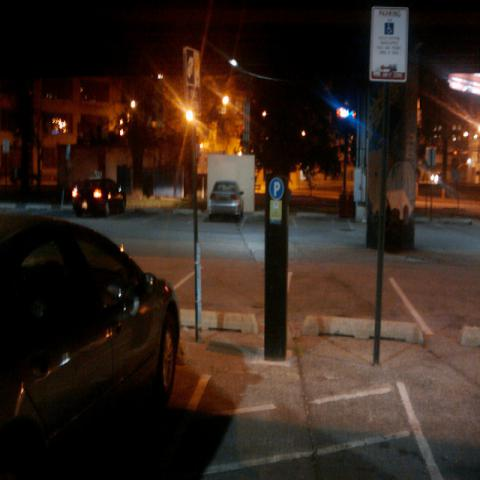car: (1, 210, 187, 474), (71, 180, 126, 218), (209, 180, 245, 224)
